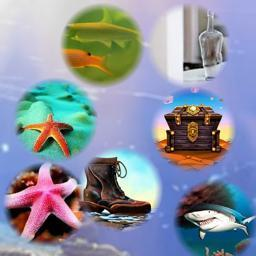not an animal: (79, 156, 154, 219), (187, 7, 230, 83)
treasure: (160, 103, 225, 156)
